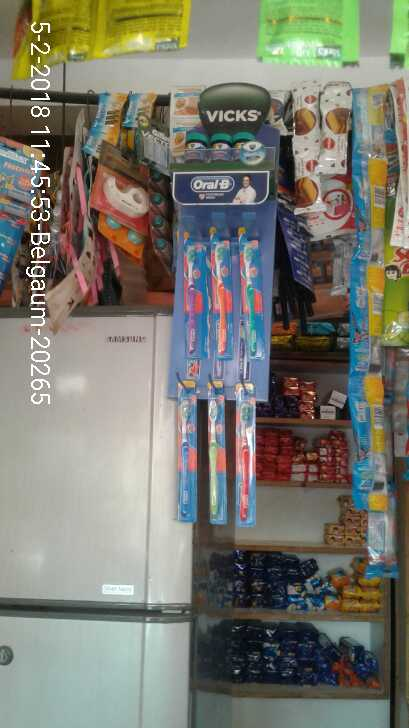pharmacy: (175, 218, 271, 524), (180, 123, 269, 172)
